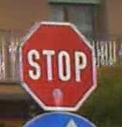stop: (16, 17, 96, 111)
